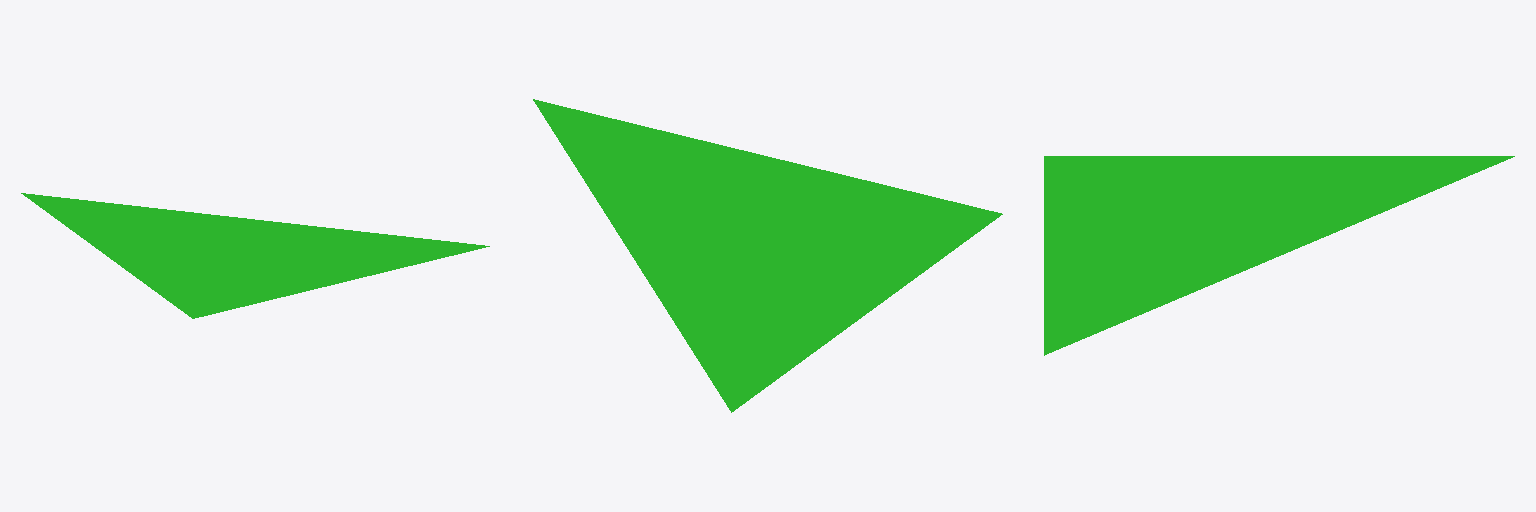
robot.urdf — dae_no_normal:
<?xml version="1.0"?>
<robot name="dae_no_normal">
  <link name="link1">
    <visual>
      <geometry>
        <mesh filename="assets/no_normal.dae"/>
      </geometry>
    </visual>
    <collision>
      <geometry>
        <box size="1 1 1"/>
      </geometry>
    </collision>
  </link>
</robot>

--- What the picture shows (computed from the rendered views, not written in the file) ---
Views: 3 orthographic renders of the robot side by side, from view 1: azimuth 30°, elevation 25°; view 2: azimuth 150°, elevation 25°; view 3: azimuth 270°, elevation 25°.
Robot: dae_no_normal — 1 links, 0 joints (none); root link link1; default pose: all joints at 0.
Links seen in each view (by area): view 1: link1; view 2: link1; view 3: link1.
Boxes of the visible links, x1=… form: link1: x1=21, y1=193, x2=489, y2=318; link1: x1=533, y1=99, x2=1002, y2=412; link1: x1=1044, y1=156, x2=1514, y2=355.
Size in the robot's own frame: 1 by 1 by 0 metres.
1 mesh visuals loaded from 1 distinct referenced files (1 Collada DAE).
